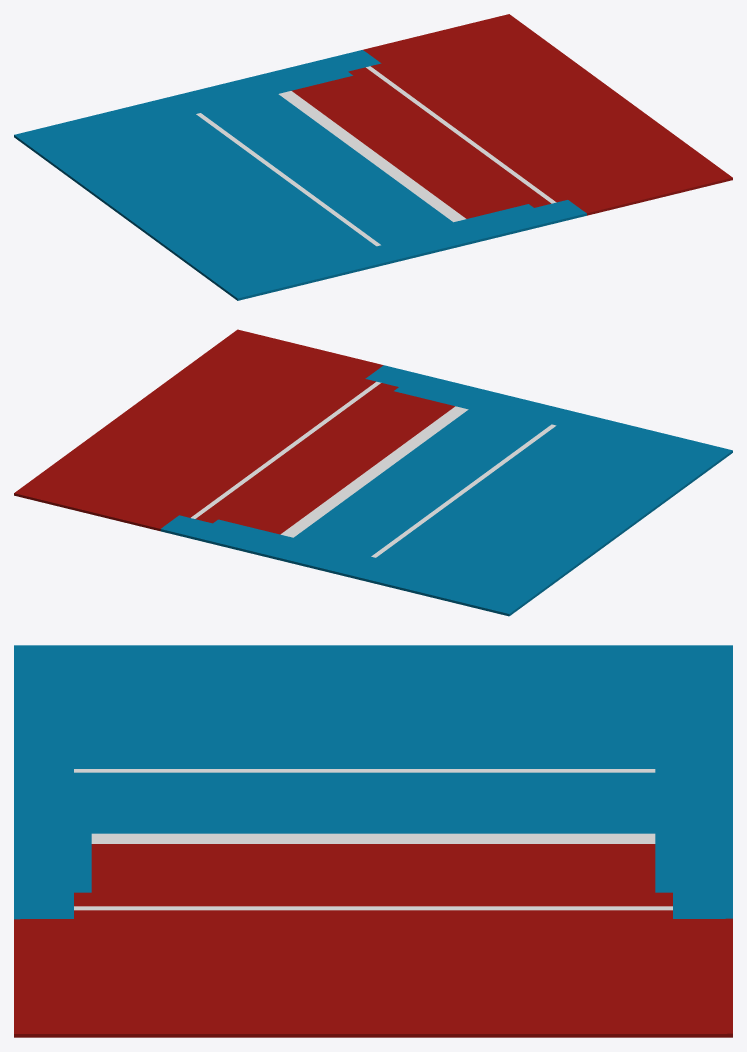
File: GadeMap 1.fbx
3 renders of one model, top to bottom at view 1: azimuth 30°, elevation 25°; view 2: azimuth 150°, elevation 25°; view 3: azimuth 270°, elevation 25°, orthographic. The views are drawn at different scales.
Visible parts, largest first — view 1: Backup\.003; view 2: Backup\.003; view 3: Backup\.003.
Boxes of the visible parts, bbox=[...] form: Backup\.003: bbox=[14, 14, 732, 300]; Backup\.003: bbox=[14, 329, 732, 616]; Backup\.003: bbox=[14, 645, 732, 1037].
Size of the model in its own units: 214 by 1 by 167.
